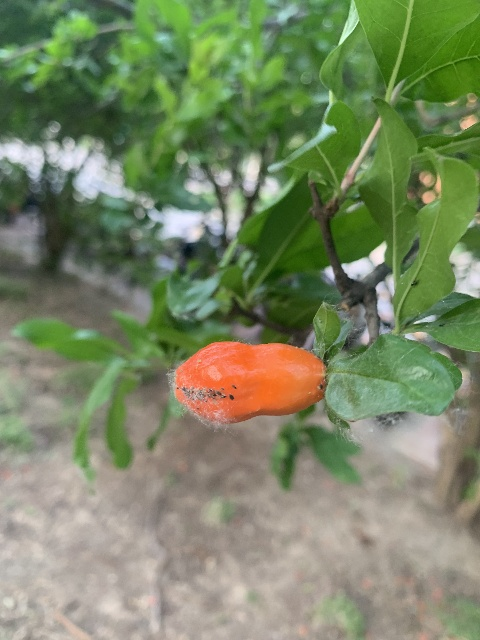bud: (173, 340, 326, 424)
